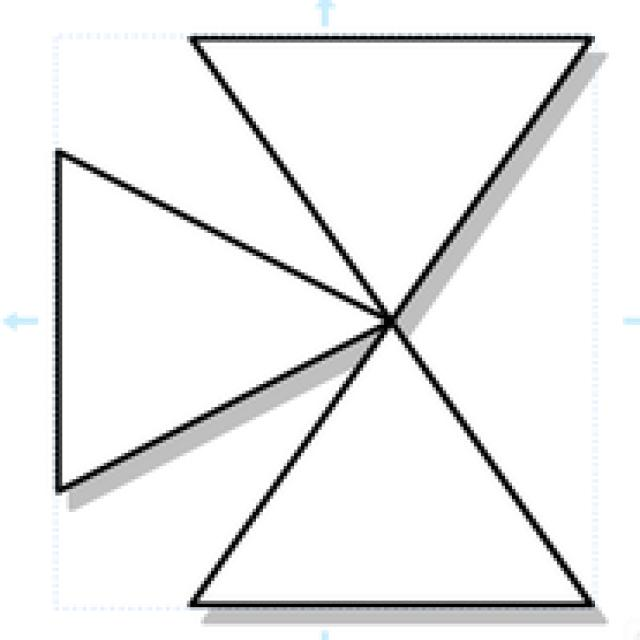3-way Valve: (193, 35, 591, 319), (61, 148, 387, 491), (194, 321, 590, 603)
